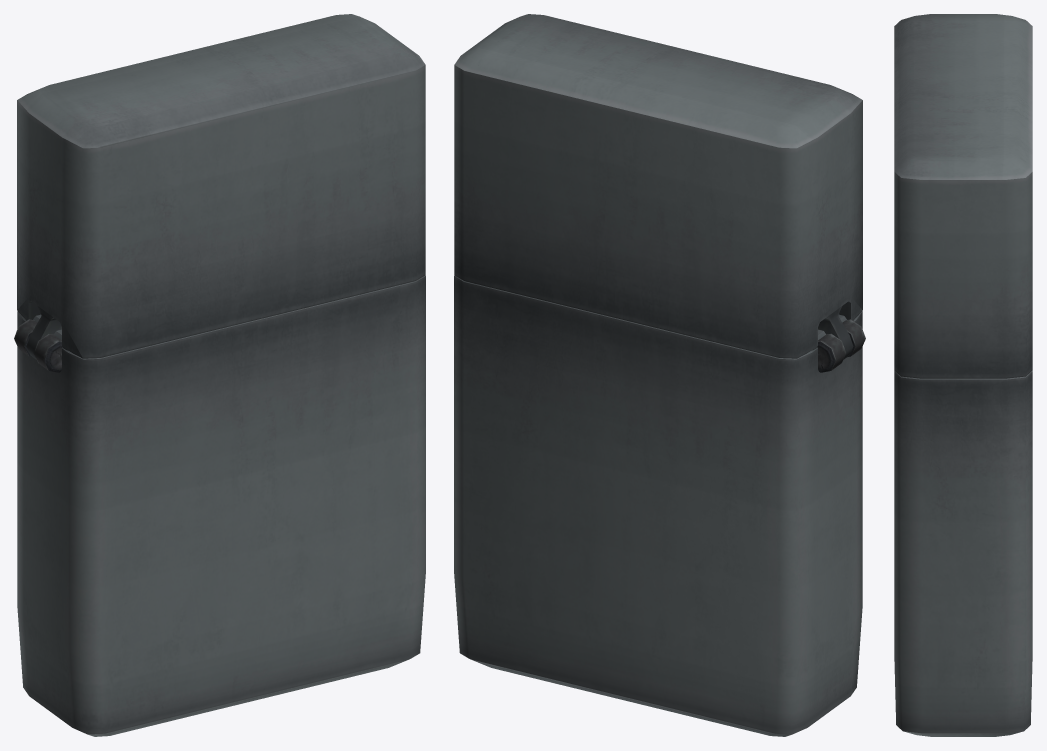
The model's file is lighter_neutral.FBX.
3 renders of one model, left to right at view 1: azimuth 30°, elevation 25°; view 2: azimuth 150°, elevation 25°; view 3: azimuth 270°, elevation 25°, orthographic. The views are drawn at different scales.
Visible parts, largest first — view 1: lighter_main_neutral, lighter_head_neutral; view 2: lighter_main_neutral, lighter_head_neutral; view 3: lighter_head_neutral, lighter_main_neutral.
Part boxes in pixels (bbox=[...]): lighter_main_neutral: bbox=[14, 275, 425, 736]; lighter_head_neutral: bbox=[17, 14, 425, 359]; lighter_main_neutral: bbox=[454, 275, 865, 736]; lighter_head_neutral: bbox=[454, 14, 862, 359]; lighter_head_neutral: bbox=[894, 14, 1032, 378]; lighter_main_neutral: bbox=[894, 370, 1032, 736].
Bounding box in the file's own units: 26.1 × 41.63 × 9.
